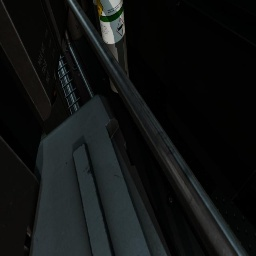0: (96, 0, 129, 93), (93, 0, 103, 39)
NitrogenTank ,: (65, 0, 84, 41), (81, 0, 91, 14)
